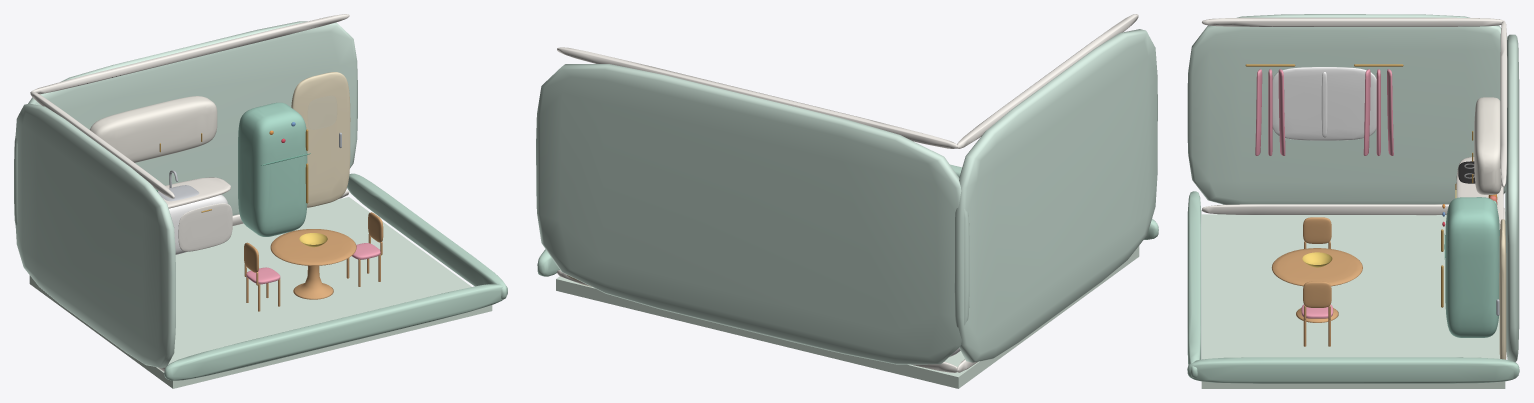
File: casa_cocina.glb
3 renders of one model, left to right at view 1: azimuth 30°, elevation 25°; view 2: azimuth 150°, elevation 25°; view 3: azimuth 270°, elevation 25°, orthographic. The views are drawn at different scales.
Parts seen in each view (by area): view 1: pared izquierda.001, piso.001, pared fondo.001, muro bajo frente.001, nevera, puerta.002, alacena, muro bajo derecha.001, cornisa fondo.001, tabla comedor, puerta gabinete.002, cornisa izquierda.001 (+3 smaller); view 2: pared fondo.001, pared izquierda.001, piso.001, cornisa fondo.001, cornisa izquierda.001; view 3: pared izquierda.001, piso.001, muro bajo derecha.001, nevera, marco.001, pared fondo.001, cornisa izquierda.001, zócalo izquierdo.001, muro bajo frente.001, alacena, tabla comedor, cornisa fondo.001 (+14 smaller).
Part boxes in pixels (left/top/right/bottom): pared izquierda.001: left=15, top=103, right=175, bottom=368; piso.001: left=29, top=197, right=492, bottom=388; pared fondo.001: left=14, top=21, right=357, bottom=225; muro bajo frente.001: left=164, top=283, right=507, bottom=380; nevera: left=238, top=102, right=307, bottom=236; puerta.002: left=291, top=72, right=350, bottom=207; alacena: left=90, top=96, right=217, bottom=162; muro bajo derecha.001: left=347, top=173, right=506, bottom=299; cornisa fondo.001: left=30, top=14, right=349, bottom=94; tabla comedor: left=270, top=229, right=356, bottom=265; puerta gabinete.002: left=178, top=203, right=232, bottom=251; cornisa izquierda.001: left=30, top=91, right=174, bottom=198; pared fondo.001: left=536, top=64, right=969, bottom=364; pared izquierda.001: left=954, top=29, right=1157, bottom=362; piso.001: left=556, top=246, right=1139, bottom=388; cornisa fondo.001: left=557, top=47, right=958, bottom=148; cornisa izquierda.001: left=956, top=14, right=1138, bottom=148; pared izquierda.001: left=1187, top=14, right=1507, bottom=204; piso.001: left=1201, top=214, right=1505, bottom=388; muro bajo derecha.001: left=1187, top=357, right=1519, bottom=383; nevera: left=1445, top=197, right=1499, bottom=337; marco.001: left=1272, top=67, right=1376, bottom=140; pared fondo.001: left=1505, top=34, right=1519, bottom=362; cornisa izquierda.001: left=1202, top=17, right=1504, bottom=26; zócalo izquierdo.001: left=1202, top=204, right=1504, bottom=215; muro bajo frente.001: left=1187, top=191, right=1201, bottom=377; alacena: left=1474, top=97, right=1501, bottom=194; tabla comedor: left=1271, top=248, right=1362, bottom=286; cornisa fondo.001: left=1500, top=21, right=1507, bottom=187.
Bounding box in the file's own units: 5.8 × 3.15 × 4.6.
